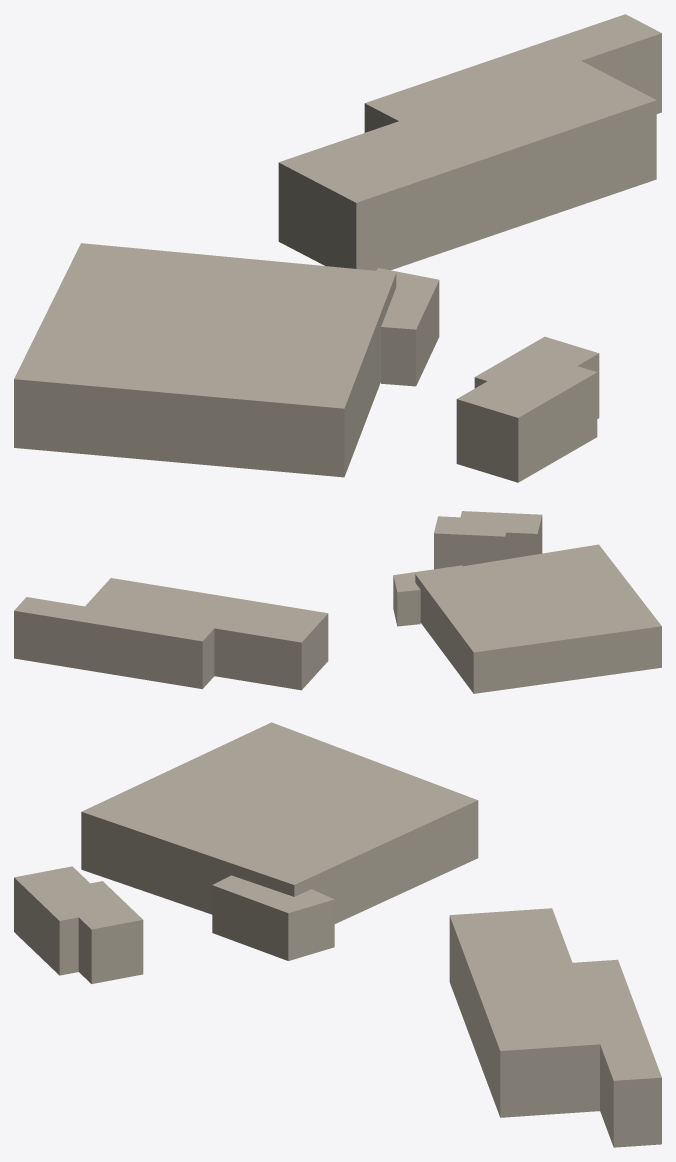
File: senglea_55_30_collision.glb
3 views of the same model, one above another, from view 1: azimuth 30°, elevation 25°; view 2: azimuth 150°, elevation 25°; view 3: azimuth 270°, elevation 25° (orthographic). The views are drawn at different scales.
Visible parts, largest first — view 1: geometry_0; view 2: geometry_0; view 3: geometry_0.
Boxes of the visible parts, box(x1,y1,x2,y2) form: geometry_0: box(14, 14, 661, 482); geometry_0: box(14, 511, 661, 693); geometry_0: box(14, 722, 661, 1147).
Bounding box in the file's own units: 170 × 17.11 × 133.
